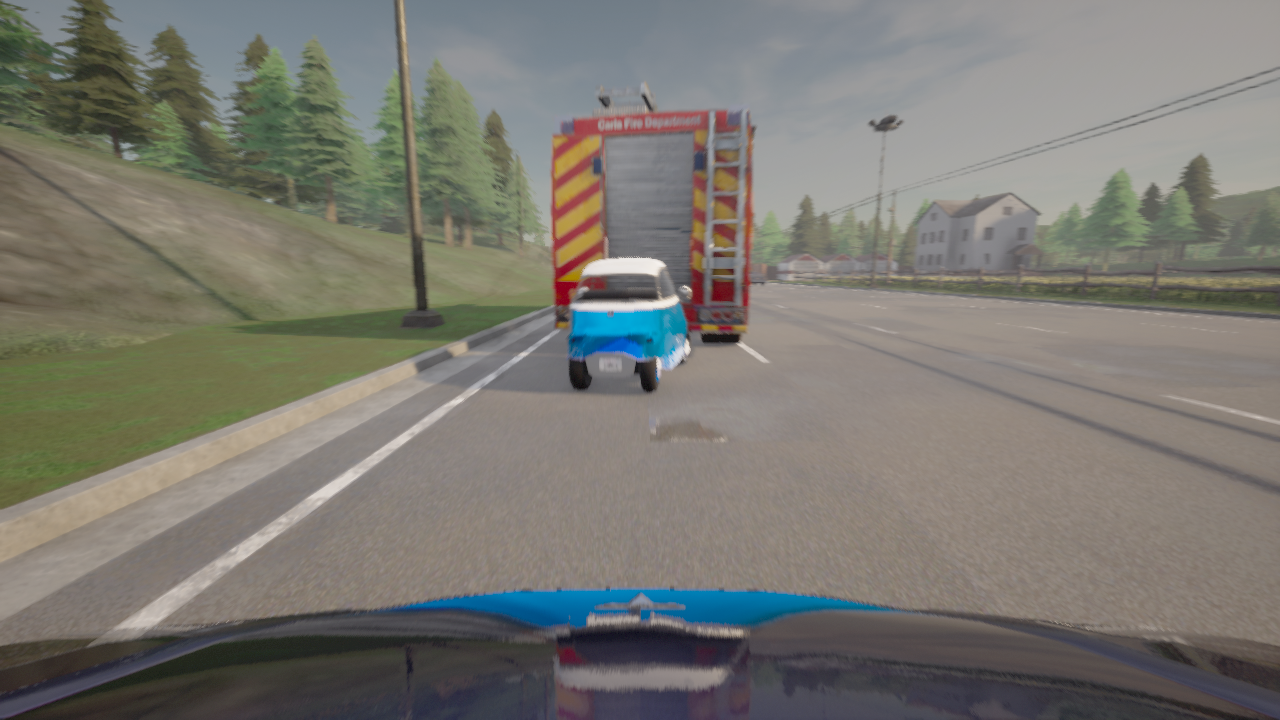cyclist: (0, 588, 1279, 719), (551, 83, 755, 344), (567, 259, 690, 392), (750, 271, 766, 286)
